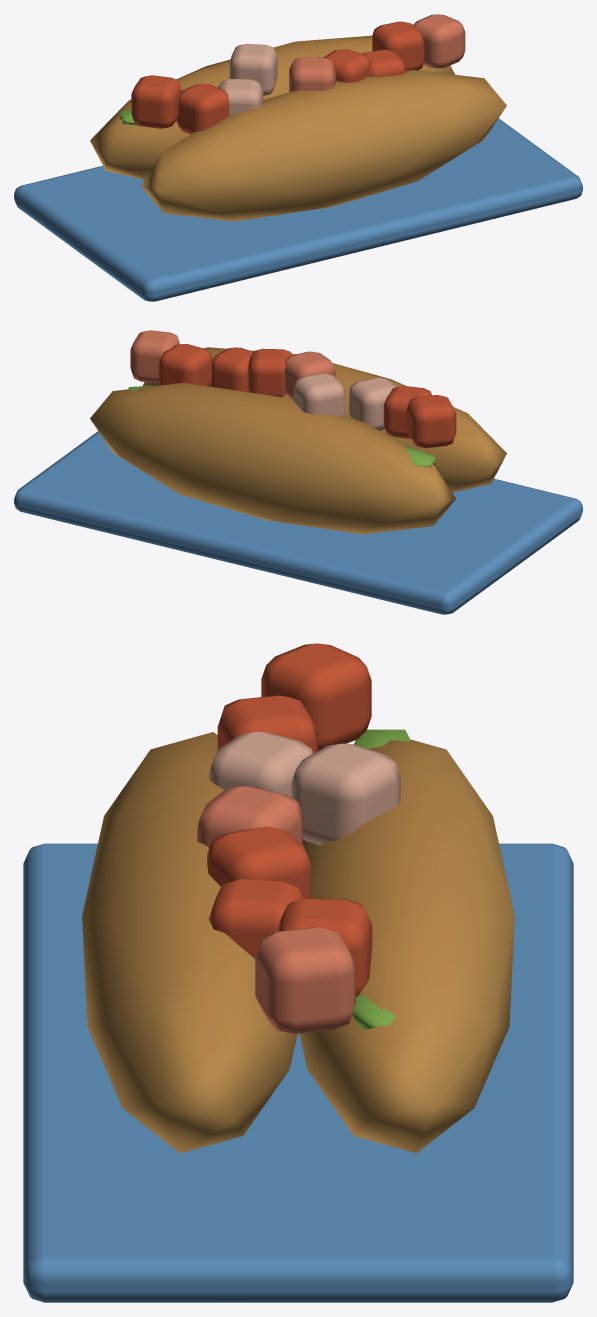
File: item_dish_lobster_roll.glb
3 views of the same model, one above another, from view 1: azimuth 30°, elevation 25°; view 2: azimuth 150°, elevation 25°; view 3: azimuth 270°, elevation 25° (orthographic). The views are drawn at different scales.
Visible parts, largest first — view 1: item_dish_lobster_roll_main; view 2: item_dish_lobster_roll_main; view 3: item_dish_lobster_roll_main.
Part boxes in pixels (x1,y1,x2,y2): item_dish_lobster_roll_main: (14,14,582,301); item_dish_lobster_roll_main: (14,330,582,614); item_dish_lobster_roll_main: (23,643,573,1302).
Size of the model in its own units: 0.24 by 0.0803 by 0.13.
